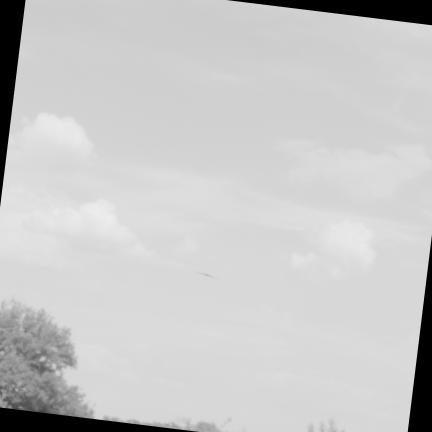Shahed: (196, 271, 215, 278)
